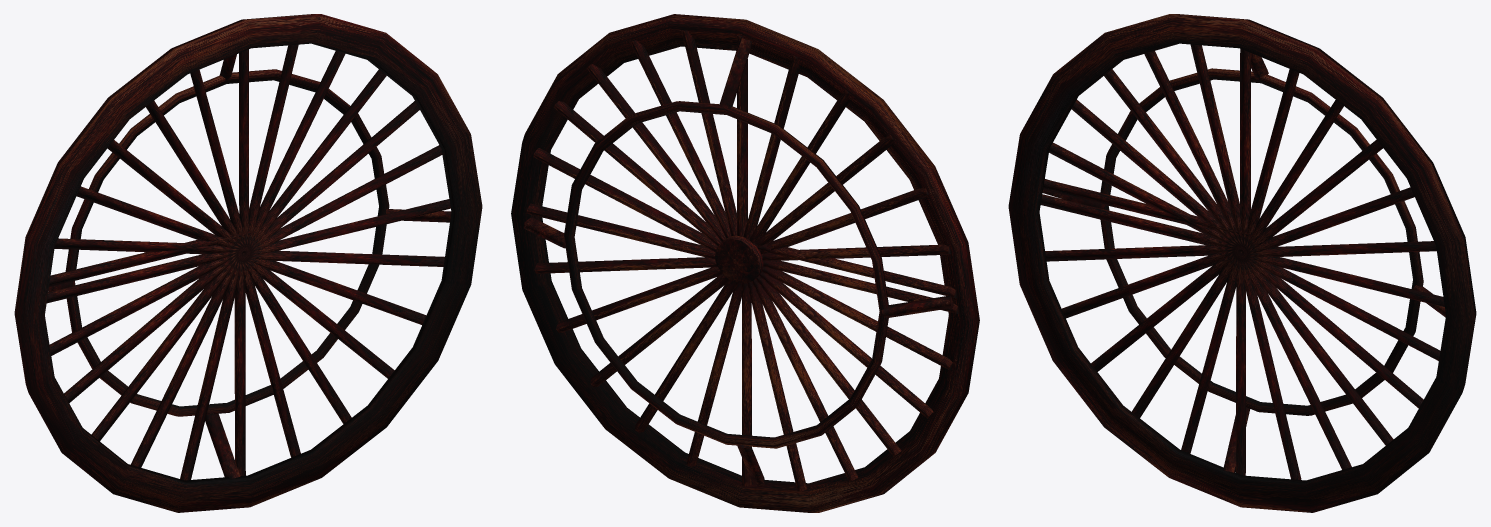
Rendered from L_wheel.fbx.
3 views of the same model, side by side, from view 1: azimuth 30°, elevation 25°; view 2: azimuth 150°, elevation 25°; view 3: azimuth 330°, elevation 25° (orthographic).
Visible parts, largest first — view 1: pTorus10, pTorus9, pasted__pCylinder114, pasted__pCylinder109, pasted__pCylinder101, pasted__pCylinder98, pasted__pCylinder100, pasted__pCylinder99, pasted__pCylinder108, pasted__pCylinder119, pasted__pCylinder111, pasted__pCylinder97 (+16 smaller); view 2: pTorus10, pTorus9, pasted__pCylinder108, pasted__pCylinder111, pasted__pCylinder119, pasted__pCylinder110, pasted__pCylinder101, pasted__pCylinder114, pasted__pCylinder98, pasted__pCylinder97, pasted__pCylinder109, pasted__pCylinder99 (+20 smaller); view 3: pTorus10, pTorus9, pasted__pCylinder126, pasted__pCylinder120, pasted__pCylinder113, pasted__pCylinder91, pasted__pCylinder105, pasted__pCylinder95, pasted__pCylinder92, pasted__pCylinder129, pasted__pCylinder117, pasted__pCylinder103 (+15 smaller).
Boxes of the visible parts, x1,y1,x2,y2 form: pTorus10: (14, 14, 482, 512); pTorus9: (65, 69, 389, 416); pasted__pCylinder114: (130, 245, 244, 467); pasted__pCylinder109: (180, 246, 243, 480); pasted__pCylinder101: (91, 245, 246, 441); pasted__pCylinder98: (64, 245, 248, 403); pasted__pCylinder100: (234, 247, 245, 475); pasted__pCylinder99: (49, 246, 250, 355); pasted__pCylinder108: (241, 69, 386, 261); pasted__pCylinder119: (239, 101, 419, 261); pasted__pCylinder111: (243, 51, 345, 262); pasted__pCylinder97: (238, 145, 442, 260); pTorus10: (511, 14, 979, 512); pTorus9: (564, 101, 888, 448); pasted__pCylinder108: (586, 64, 725, 241); pasted__pCylinder111: (630, 40, 730, 238); pasted__pCylinder119: (553, 101, 720, 246); pasted__pCylinder110: (681, 30, 736, 236); pasted__pCylinder101: (755, 276, 901, 456); pasted__pCylinder114: (751, 279, 858, 481); pasted__pCylinder98: (759, 272, 933, 418); pasted__pCylinder97: (533, 148, 717, 252); pasted__pCylinder109: (747, 281, 807, 491); pasted__pCylinder99: (762, 267, 952, 370); pTorus10: (1008, 14, 1476, 512); pTorus9: (1100, 68, 1423, 415); pasted__pCylinder126: (1234, 246, 1351, 469); pasted__pCylinder120: (1234, 248, 1393, 445); pasted__pCylinder113: (1236, 245, 1301, 479); pasted__pCylinder91: (1233, 249, 1423, 408); pasted__pCylinder105: (1104, 69, 1248, 256); pasted__pCylinder95: (1144, 51, 1247, 258); pasted__pCylinder92: (1071, 99, 1248, 255); pasted__pCylinder129: (1190, 44, 1246, 259); pasted__pCylinder117: (1233, 251, 1440, 360); pasted__pCylinder103: (1040, 194, 1248, 251).
Bounding box in the file's own units: 4.21 × 4.21 × 0.4355.
